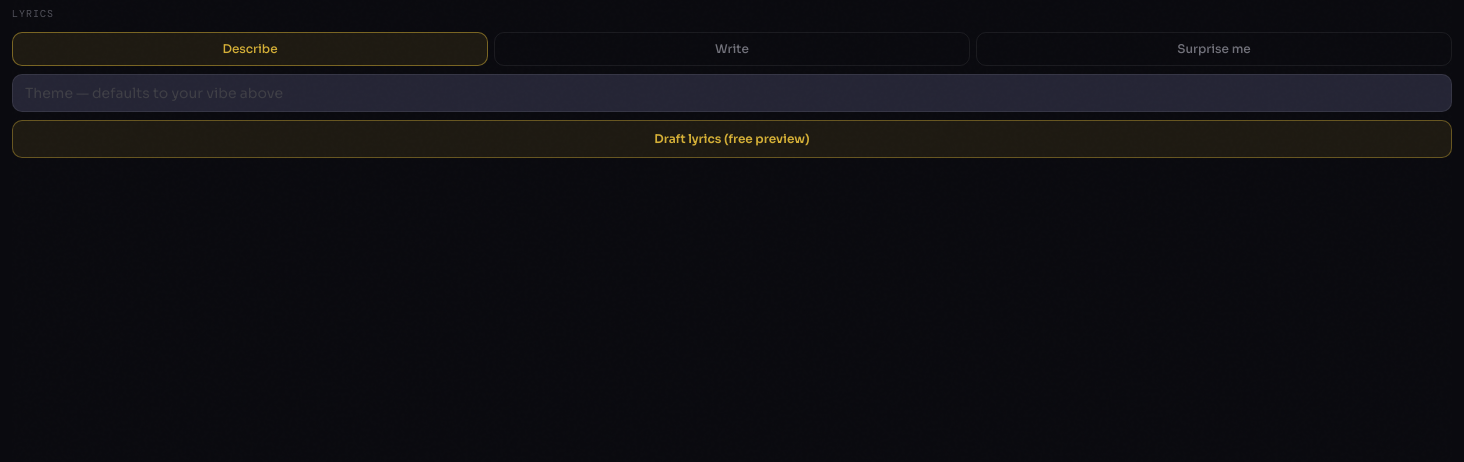
LyricsStage › keeps draft history and restores earlier drafts
Step 1. Click the button "Draft lyrics (free preview)" → click(732, 139), box [12, 120, 1452, 158]
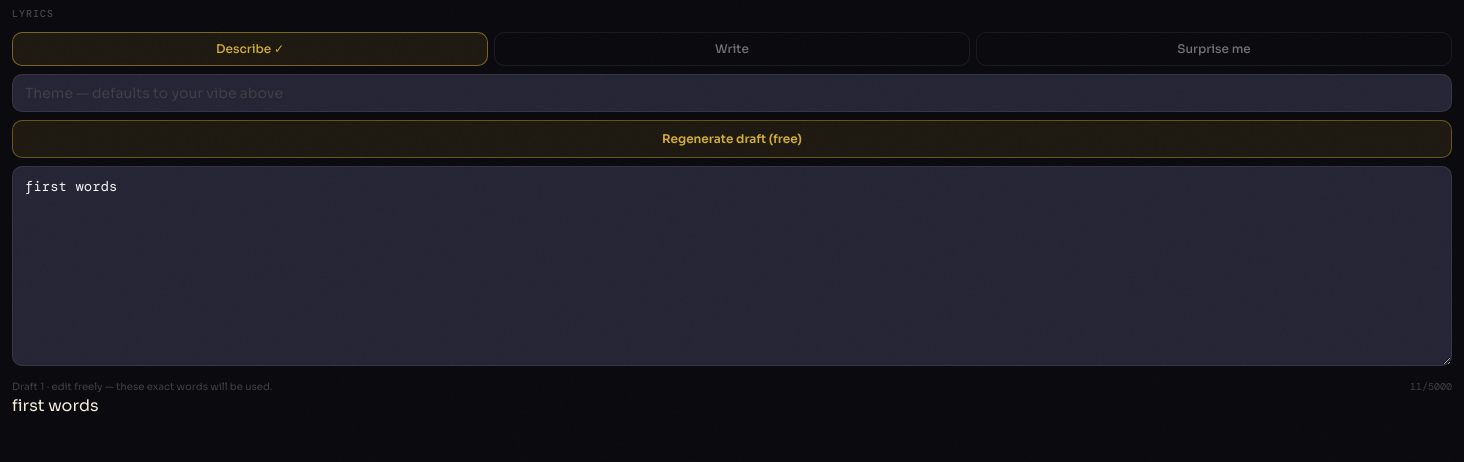
expect the text box showing "first words" is shown: met, box [12, 166, 1452, 366]
Step 2. Click the button "Regenerate draft (free)" → click(732, 139), box [12, 120, 1452, 158]
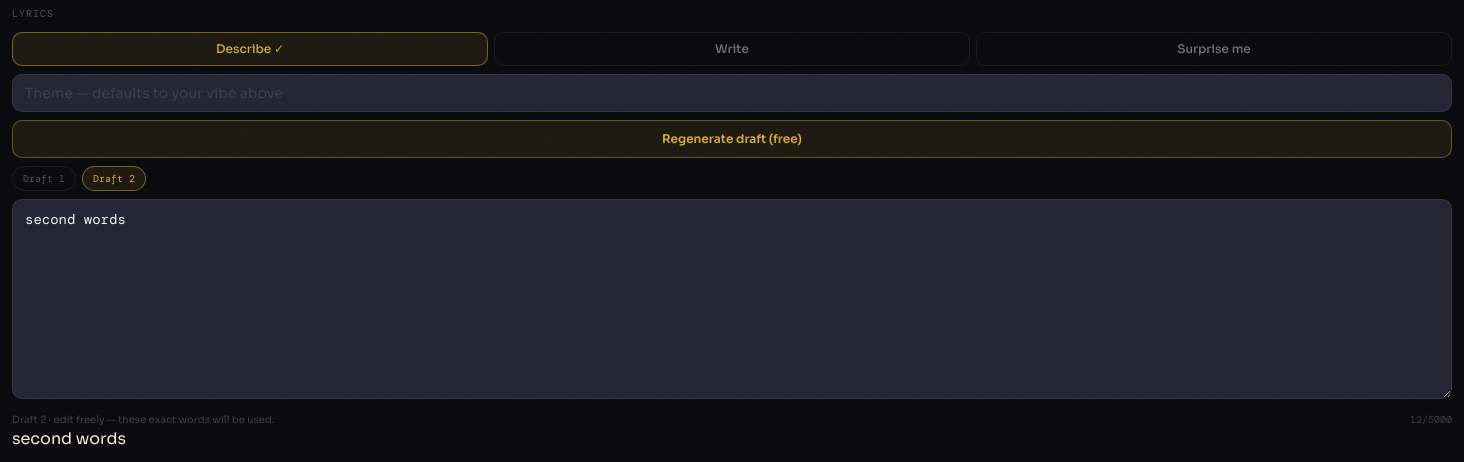
expect the button "Draft 1" is shown: met
expect the text box showing "second words" is shown: met, box [12, 199, 1452, 399]
expect the button "Draft 2" is shown: met, box [82, 166, 146, 191]
Step 3. Click the button "Draft 1" → click(44, 178), box [12, 166, 76, 191]
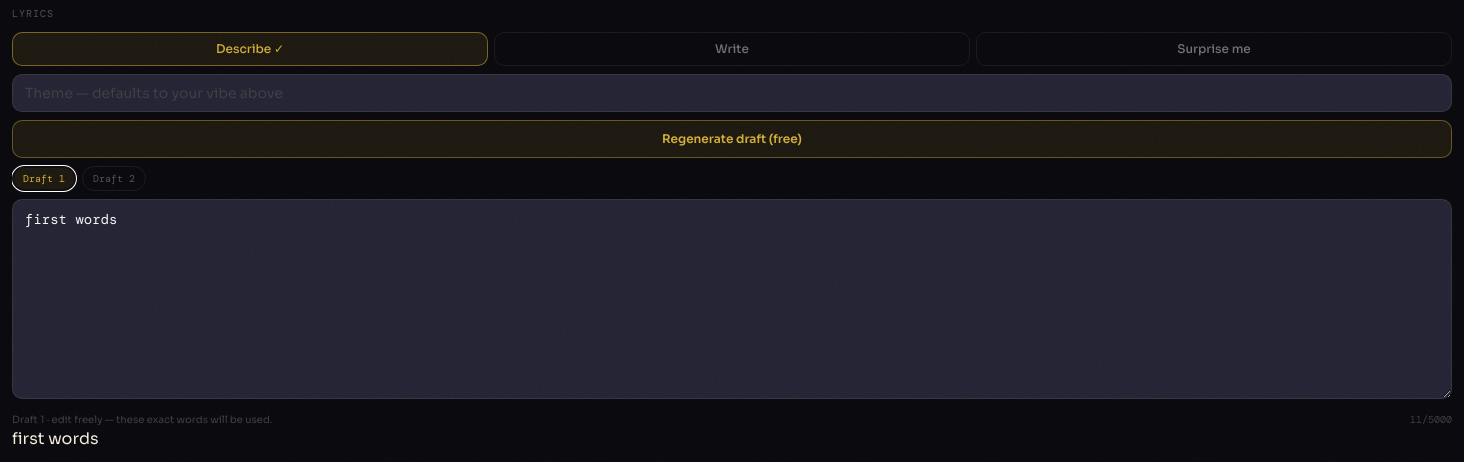
expect the text box named "Lyric draft editor" holds "first words": met, box [12, 199, 1452, 399]
